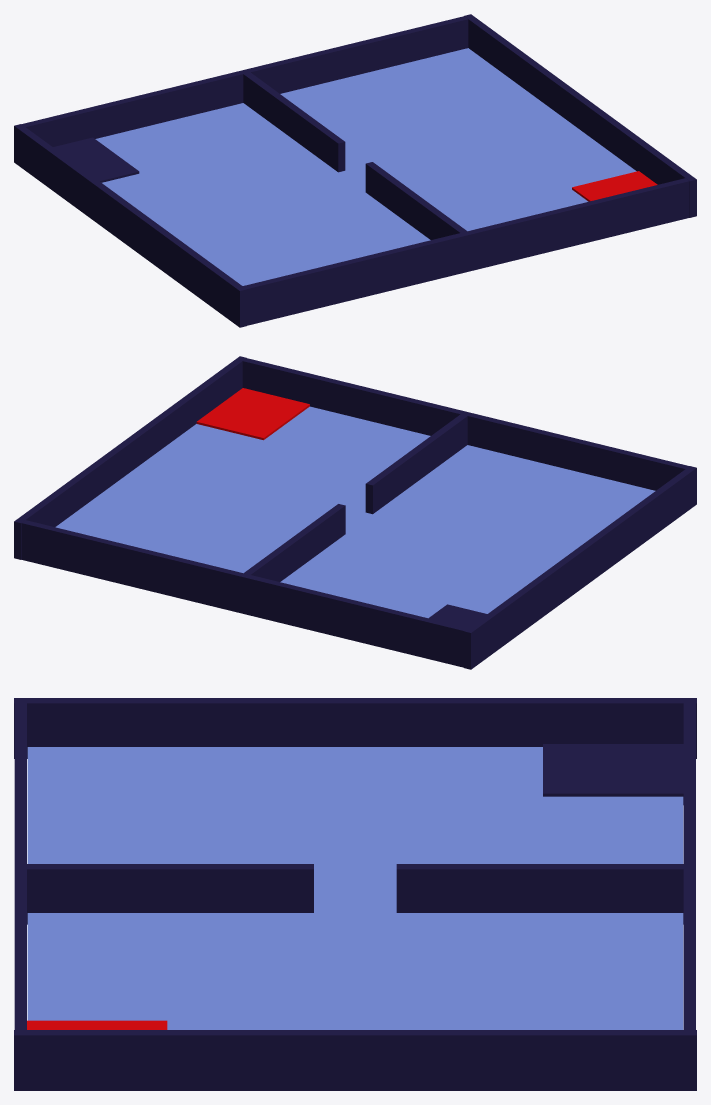
The model's file is map.glb.
3 renders of one model, top to bottom at view 1: azimuth 30°, elevation 25°; view 2: azimuth 150°, elevation 25°; view 3: azimuth 270°, elevation 25°, orthographic. The views are drawn at different scales.
Parts seen in each view (by area): view 1: Cube.006; view 2: Cube.006; view 3: Cube.006.
Boxes of the visible parts, x1,y1,x2,y2 form: Cube.006: (14, 14, 696, 327); Cube.006: (14, 356, 696, 669); Cube.006: (14, 698, 696, 1090).
Size of the model in its own units: 3.41 by 0.2615 by 2.92.
